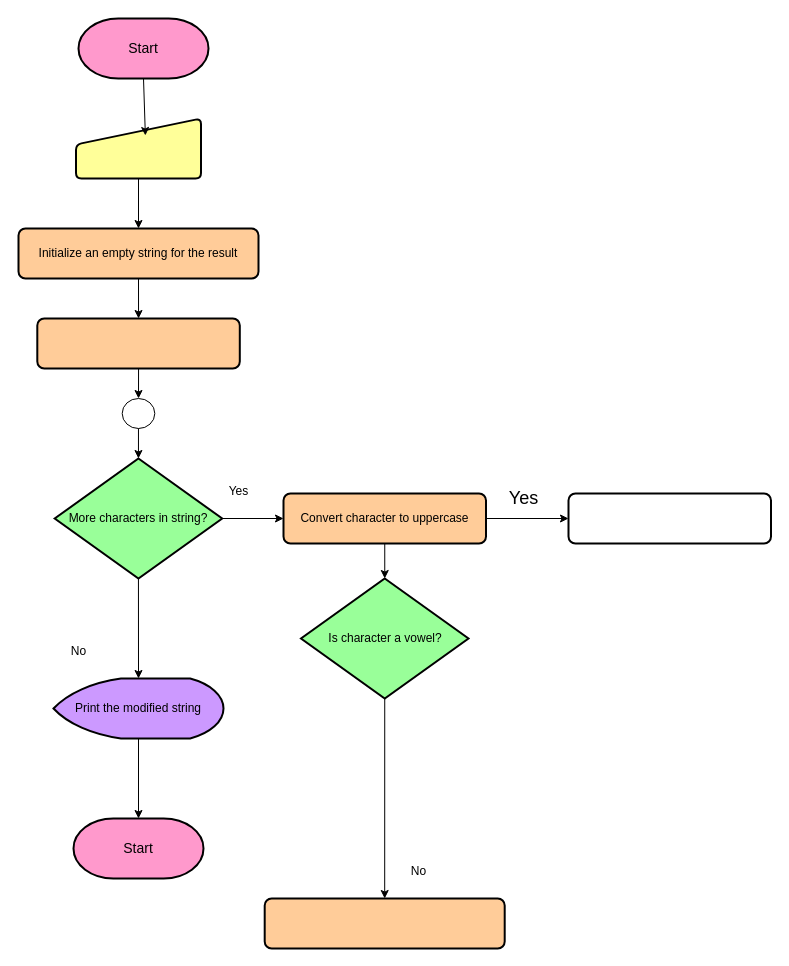
Some shapes in this 789 by 966 pixel diagram are drawn without their labels. The shapes that lost their labels are listed below. From the top down, each one's centre as x and y in pixels, then its label:
the point at 138,148: Read input string from the user
the point at 138,343: Define vowels as "aeiouAEOU"
the point at 669,518: Add an asterisk to the result
the point at 384,923: Add the uppercase character to the result
